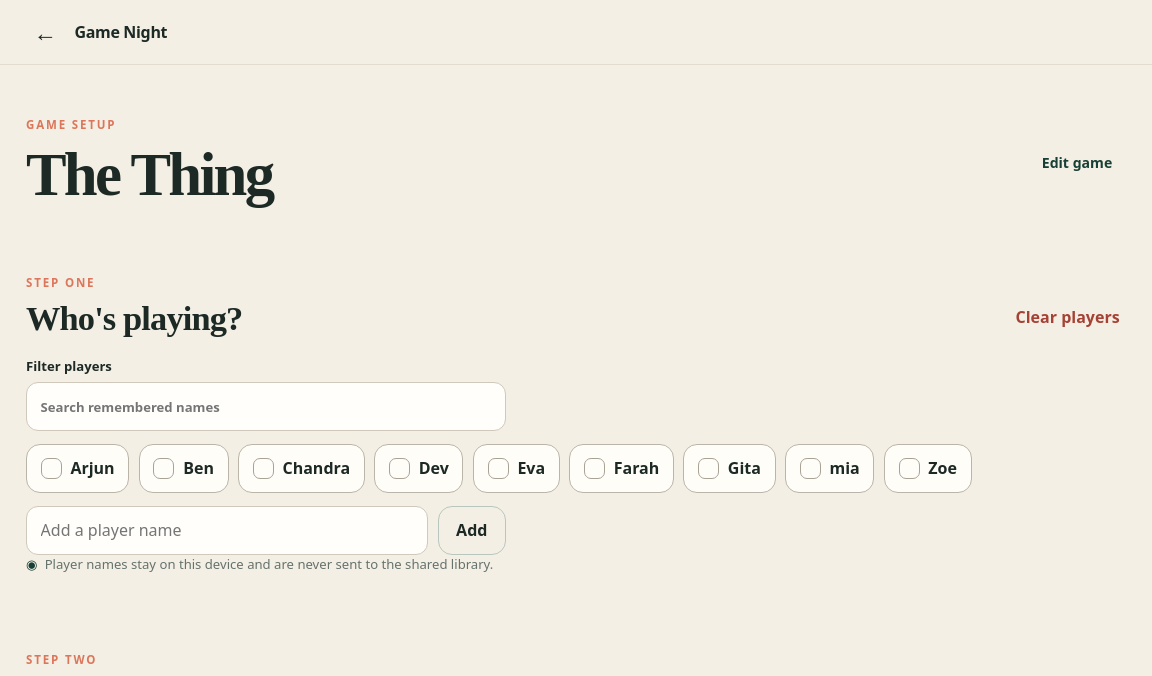
Test: local setup controls › clears only the current group's locally remembered players after inline confirmation
The width and height of the screenshot is (1152, 676).
Expected: the button "Arjun" is shown, [26,444,129,493]
Step 1. Click the button "Clear players" → (1068, 317), box [1009,297,1126,337]
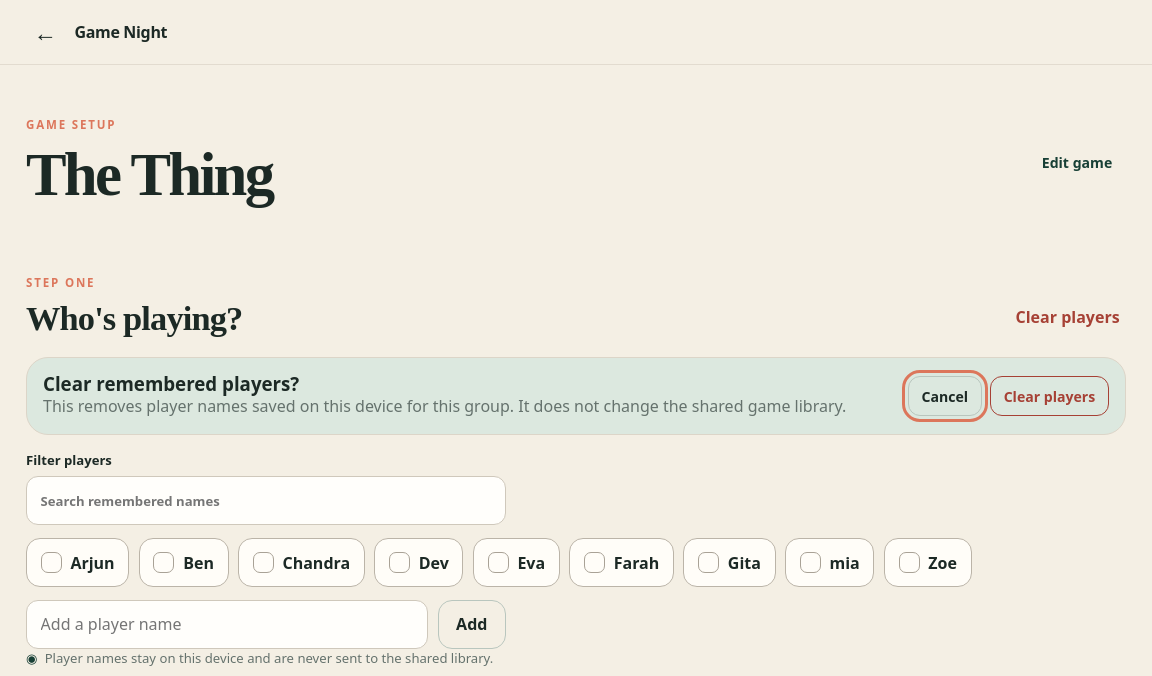
Expected: the text "saved on this device for this group" is shown, [43,395,846,417]
Step 2. Click the button "Cancel" → (945, 396), box [908,376,982,416]
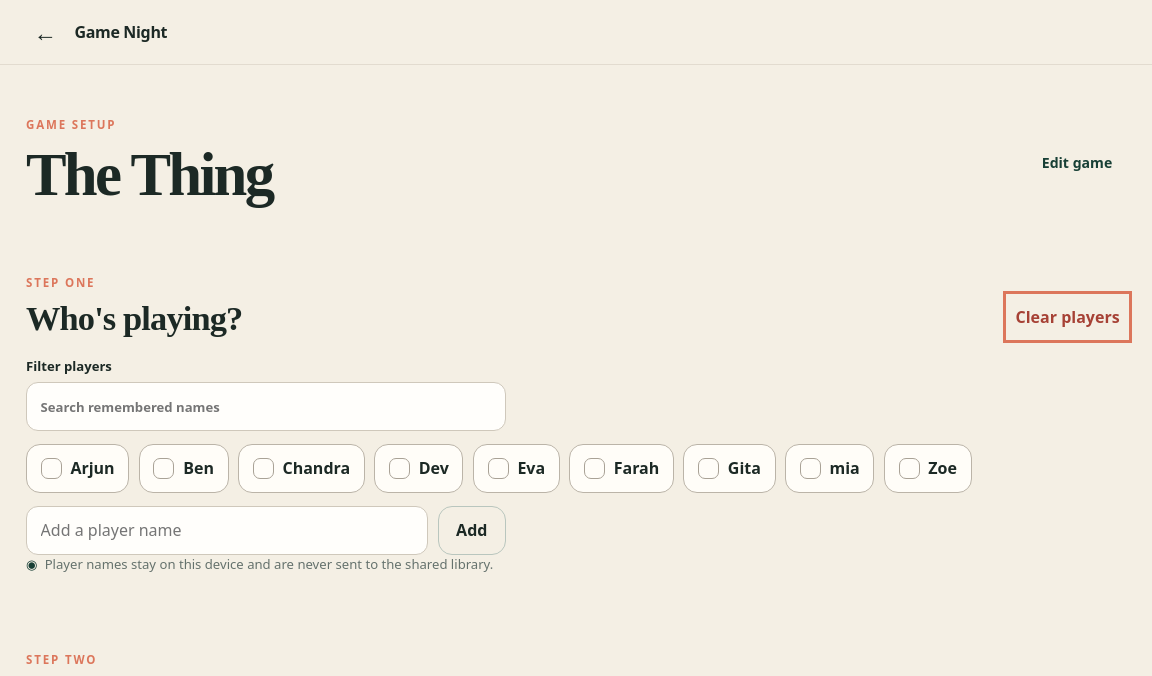
Expected: the button "Arjun" is shown, [26,444,129,493]
Expected: the heading "Clear remembered players?" is gone
Step 3. Click the button "Clear players" → (1068, 317), box [1009,297,1126,337]
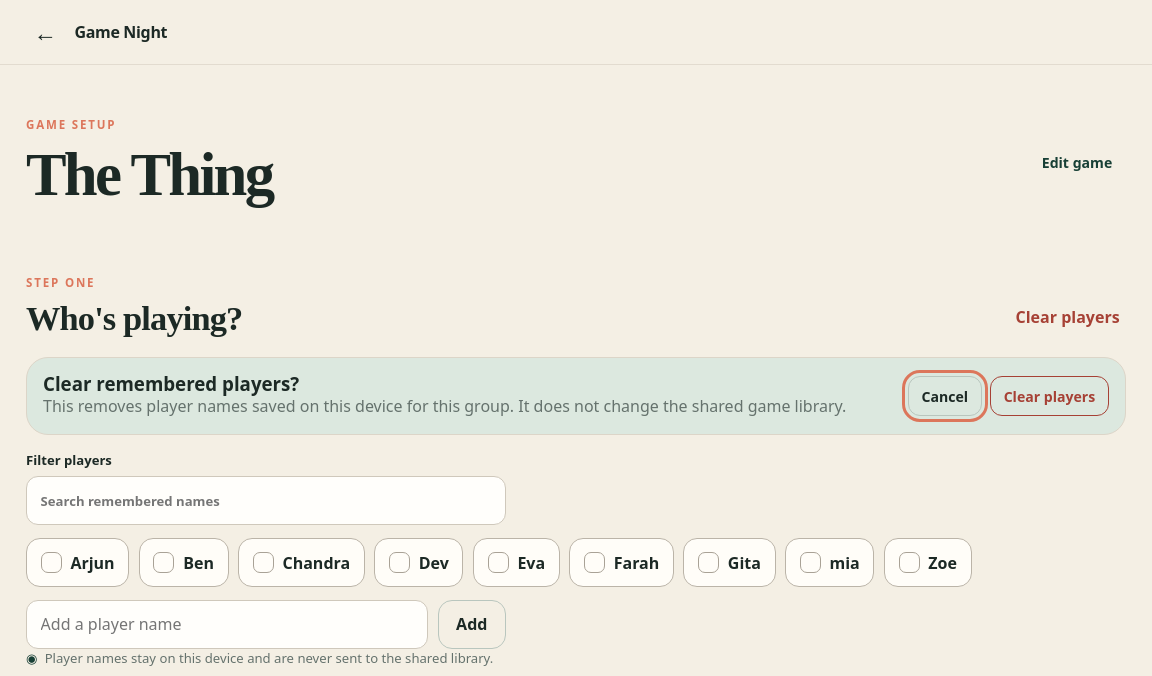
Step 4. Click the button "Clear players" in the row of "Clear remembered players?" → (1049, 396), box [990,376,1109,416]
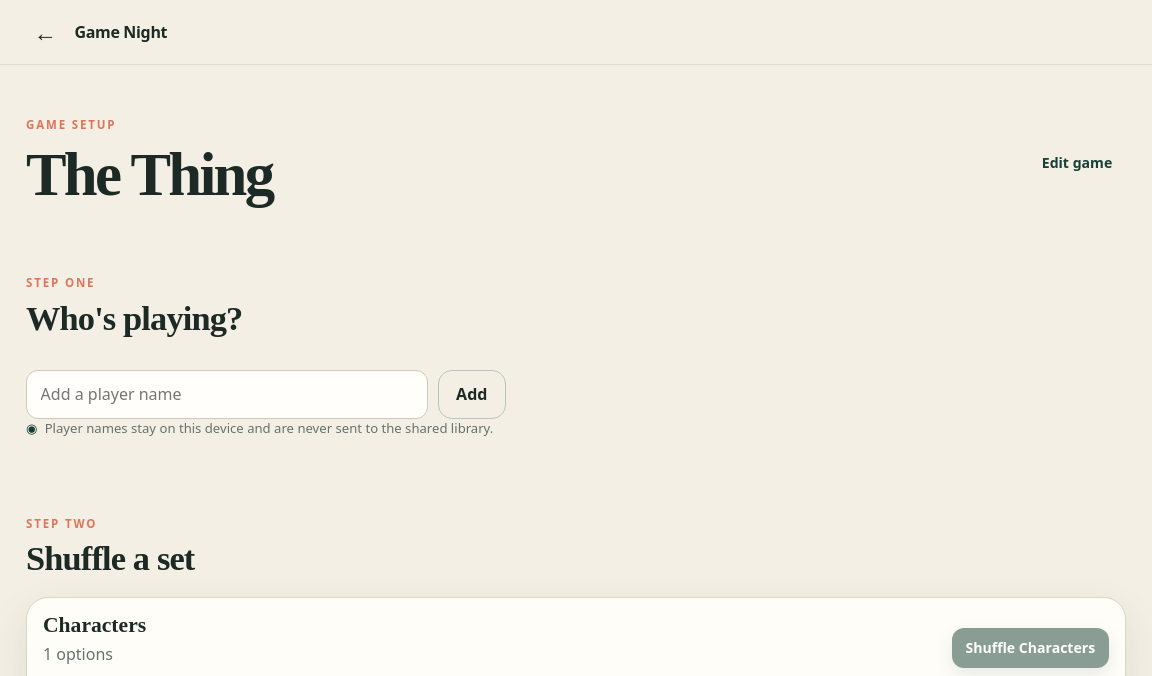
Expected: no the button "Clear players" are shown
Expected: the button "Clear players" is gone
